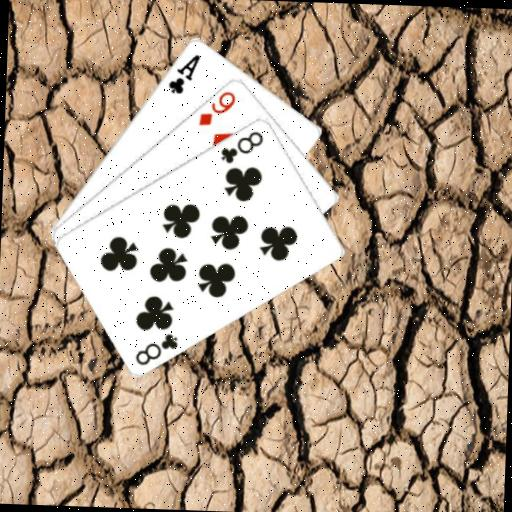8C: (217, 126, 265, 165), (131, 328, 179, 367)
9D: (195, 86, 237, 128)
AC: (164, 50, 202, 96)
